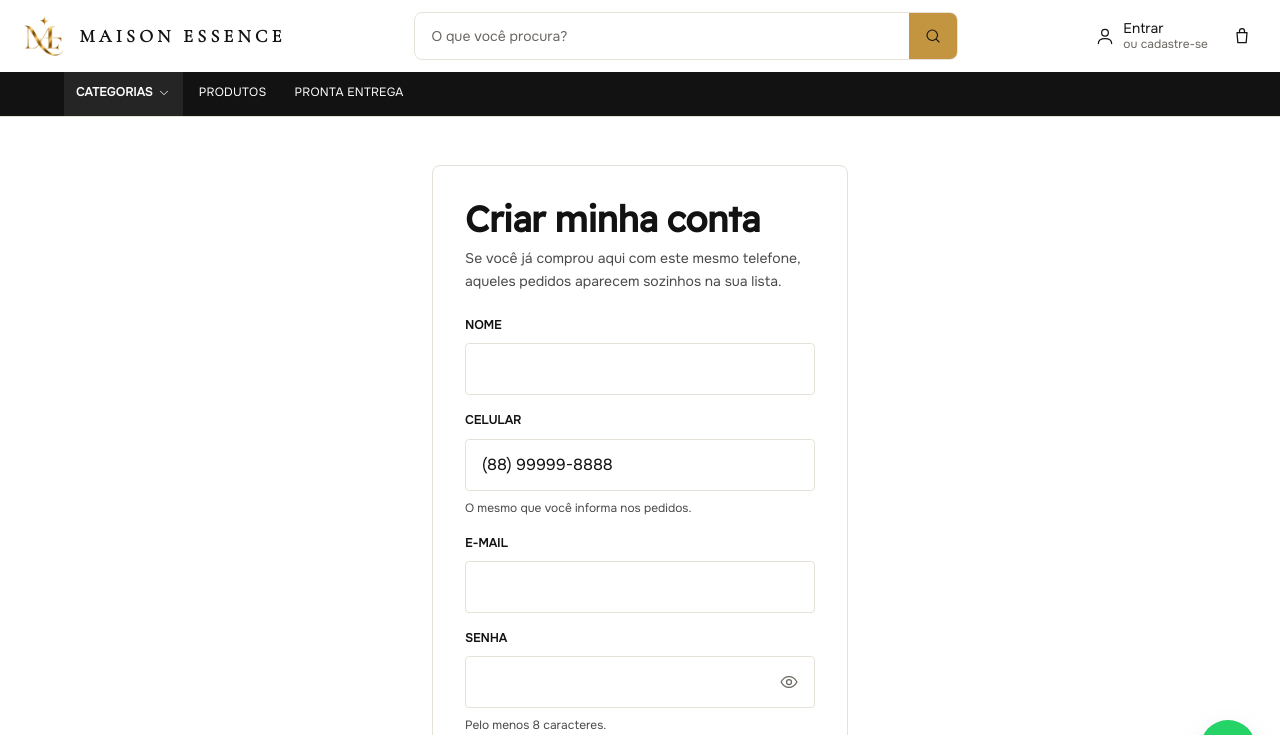
Test: criar conta com o telefone do pedido traz aquele pedido para a lista
Expected: the field labelled "Celular" holds "(88) 99999-8888", x1=465 y1=438 x2=815 y2=490
Type "Maria Silva" into the field labelled "Nome".
click(640, 369); type("Maria Silva")  # box x1=465 y1=343 x2=815 y2=395
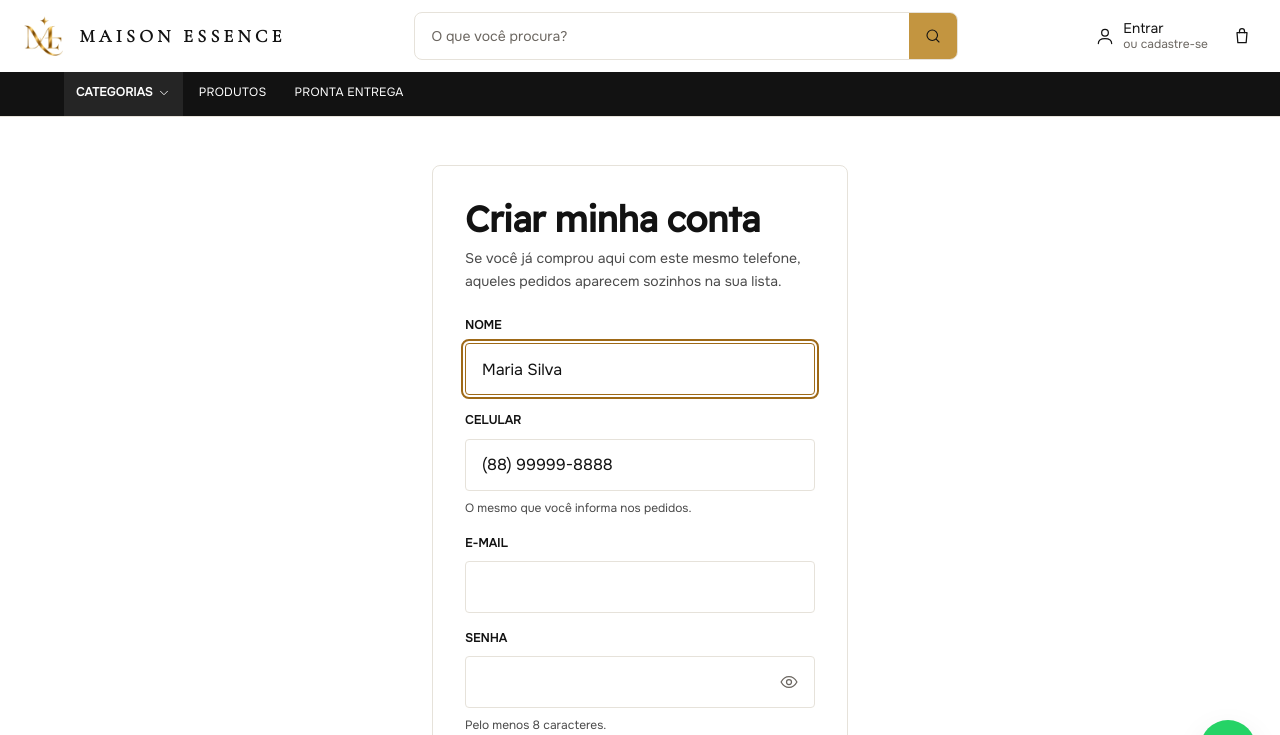
Type "maria@exemplo.test" into the field labelled "E-mail".
click(640, 587); type("maria@exemplo.test")  # box x1=465 y1=561 x2=815 y2=613
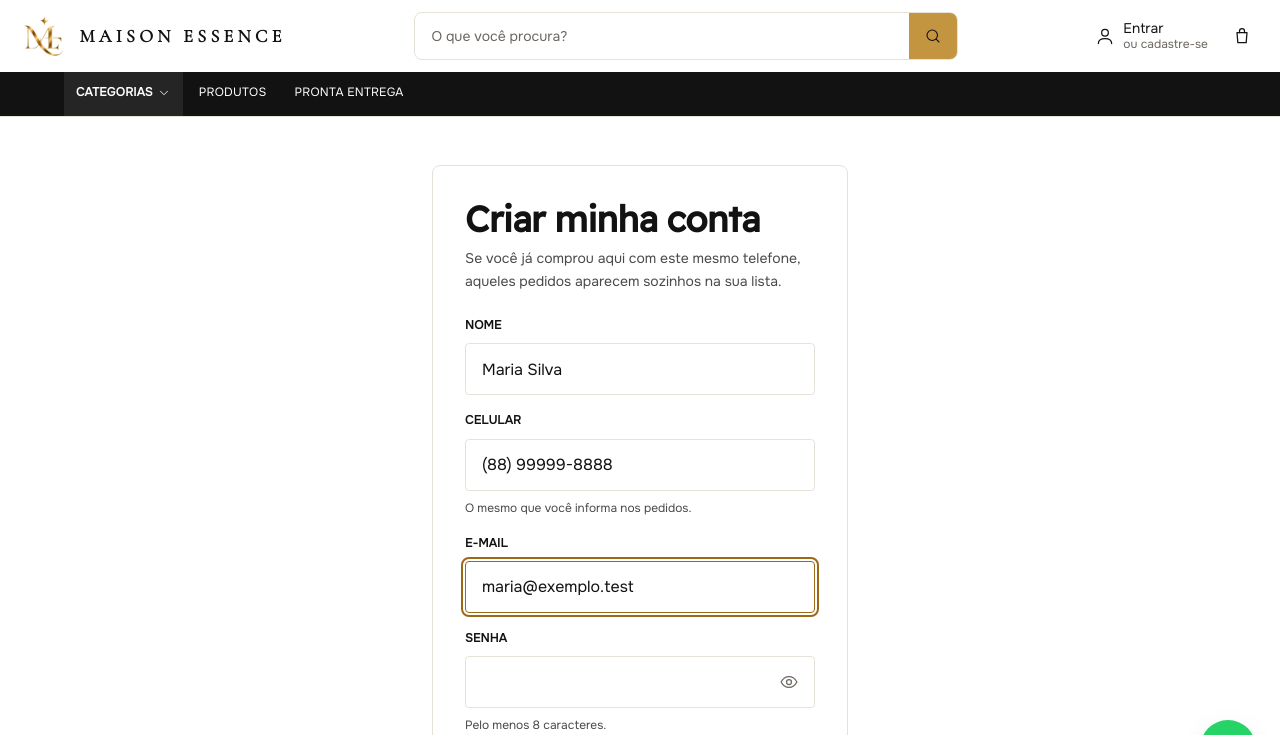
Type "segredo12345" into the password field labelled "Senha".
click(640, 682); type("segredo12345")  # box x1=465 y1=656 x2=815 y2=708
(page scrolled)
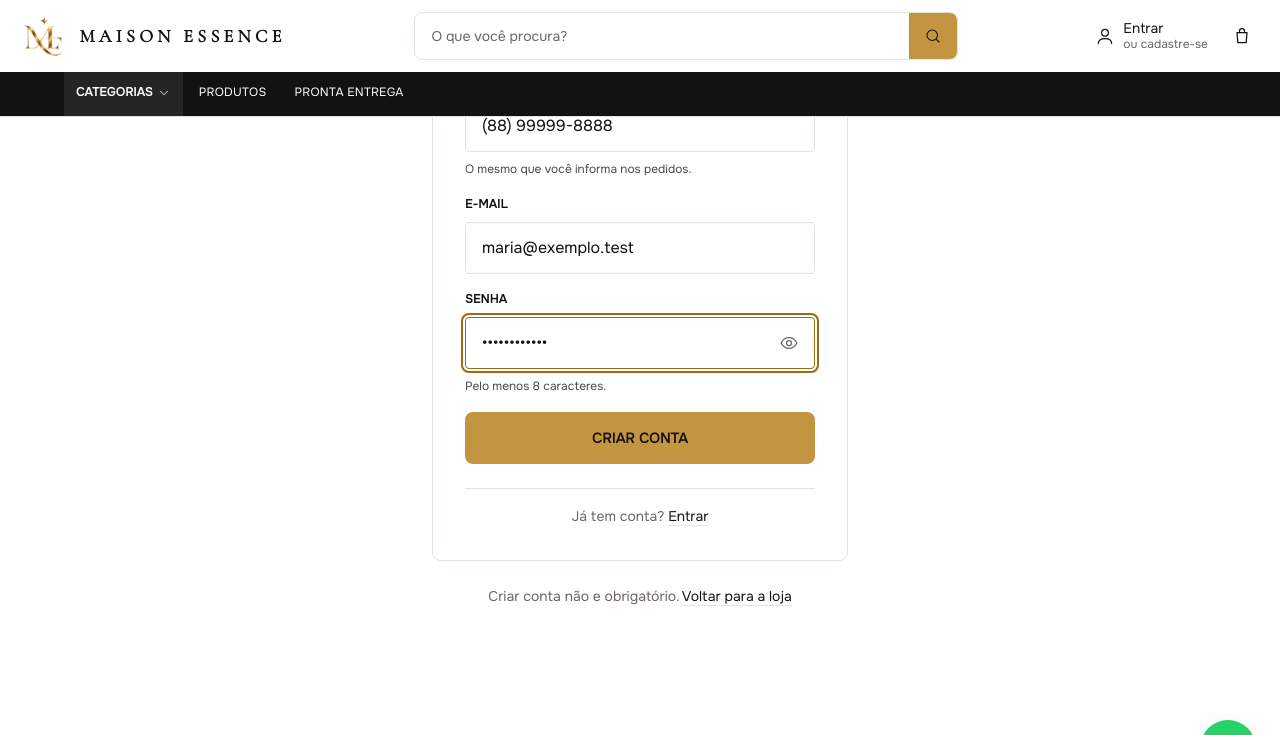
Click the button named "Criar conta".
click(640, 438)  # box x1=465 y1=412 x2=815 y2=464
(page scrolled)
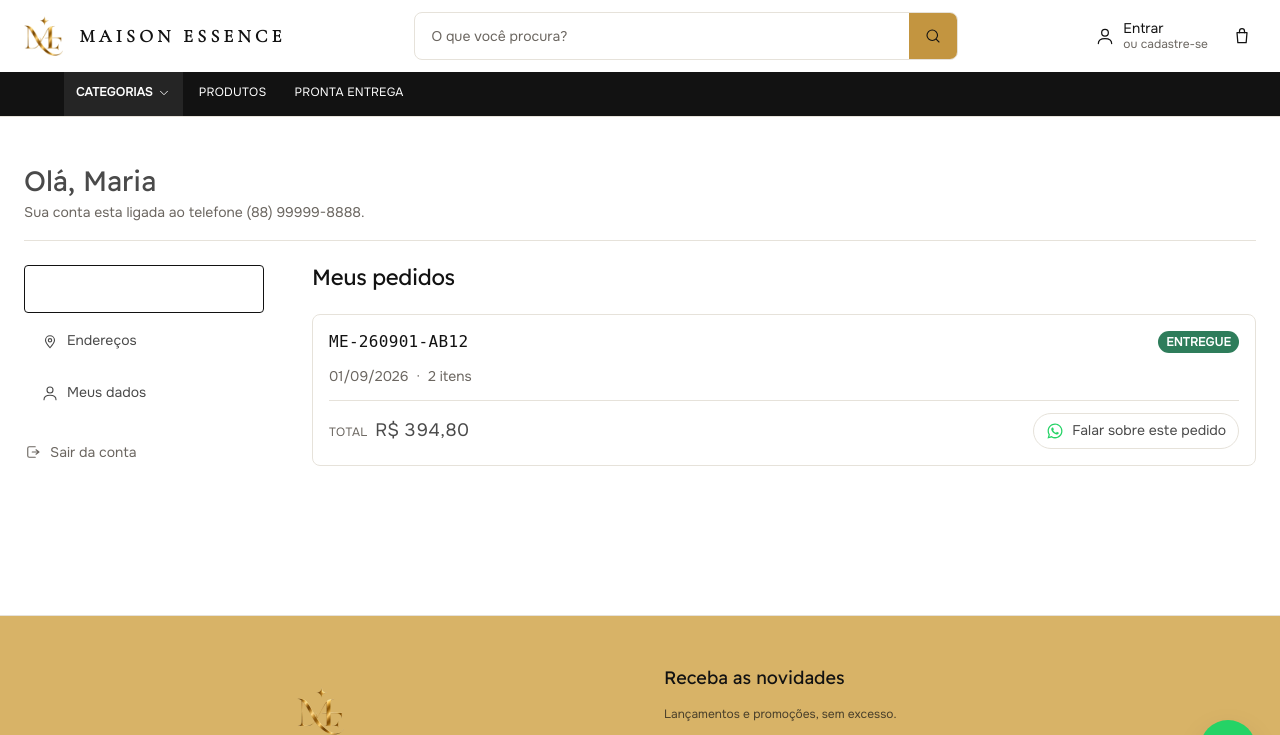
Expected: the link "ME-260901-AB12" is shown, x1=329 y1=332 x2=468 y2=351
Expected: the text "Entregue" is shown, x1=1158 y1=331 x2=1239 y2=353
